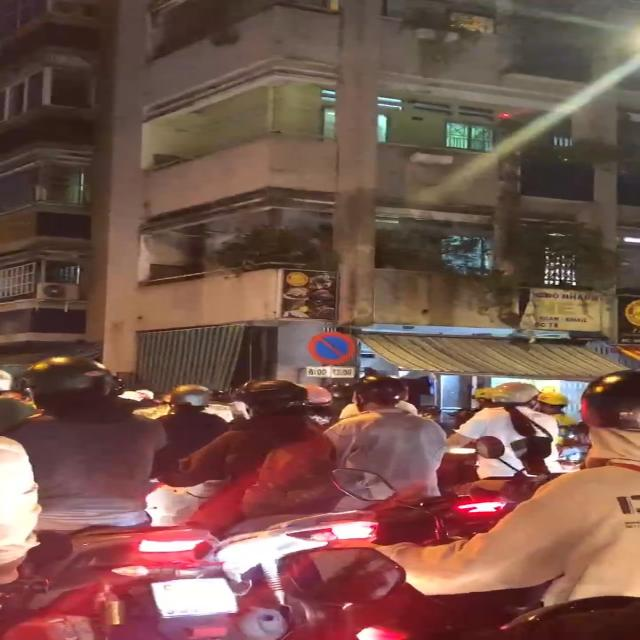Bien bao cam do xe: (308, 329, 357, 364)
